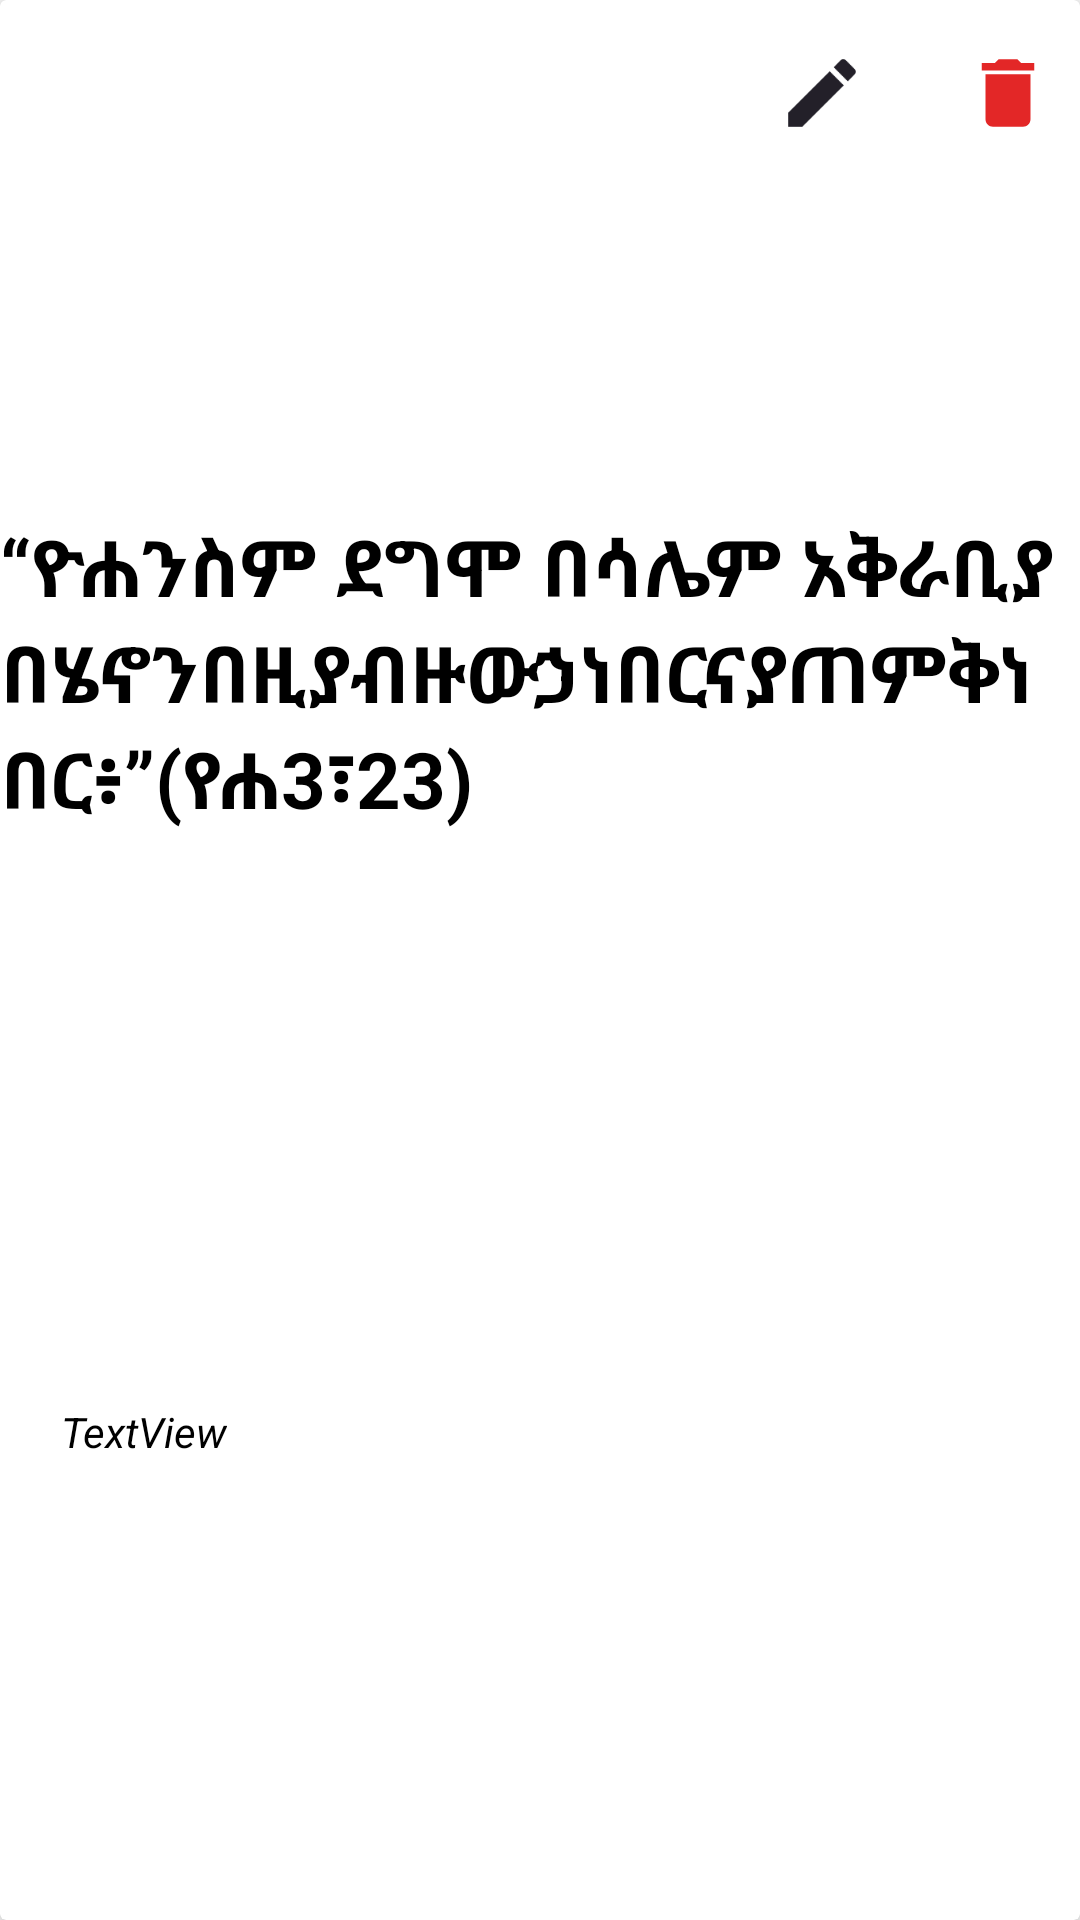

Where to tap for icons on this 1080w x 1920h app screen, as (x,y):
delete: (1008,93)
edit: (822,93)
